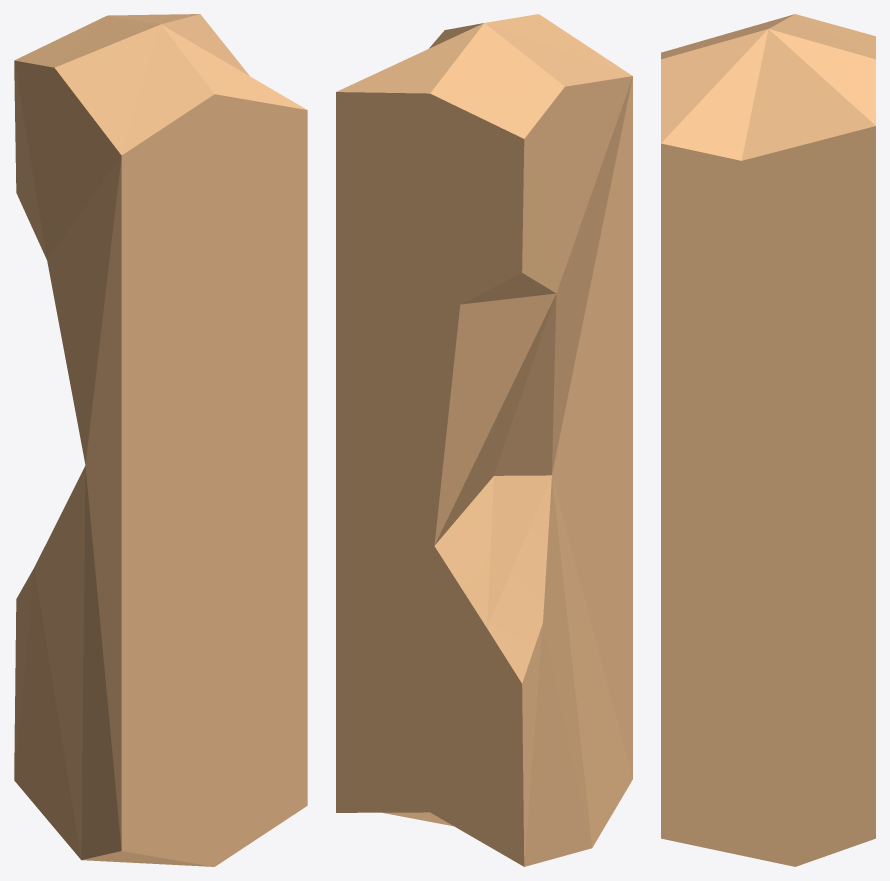
The picture shows the model from 3 angles, left to right: view 1: azimuth 30°, elevation 25°; view 2: azimuth 150°, elevation 25°; view 3: azimuth 270°, elevation 25°; orthographic projection.
Parts seen in each view (by area): view 1: O_E_WT_R03; view 2: O_E_WT_R03; view 3: O_E_WT_R03.
Part boxes in pixels (bbox=[...]): O_E_WT_R03: bbox=[14, 14, 307, 866]; O_E_WT_R03: bbox=[336, 14, 632, 866]; O_E_WT_R03: bbox=[661, 14, 875, 866].
Bounding box in the file's own units: 0.3282 × 1.35 × 0.3282.
